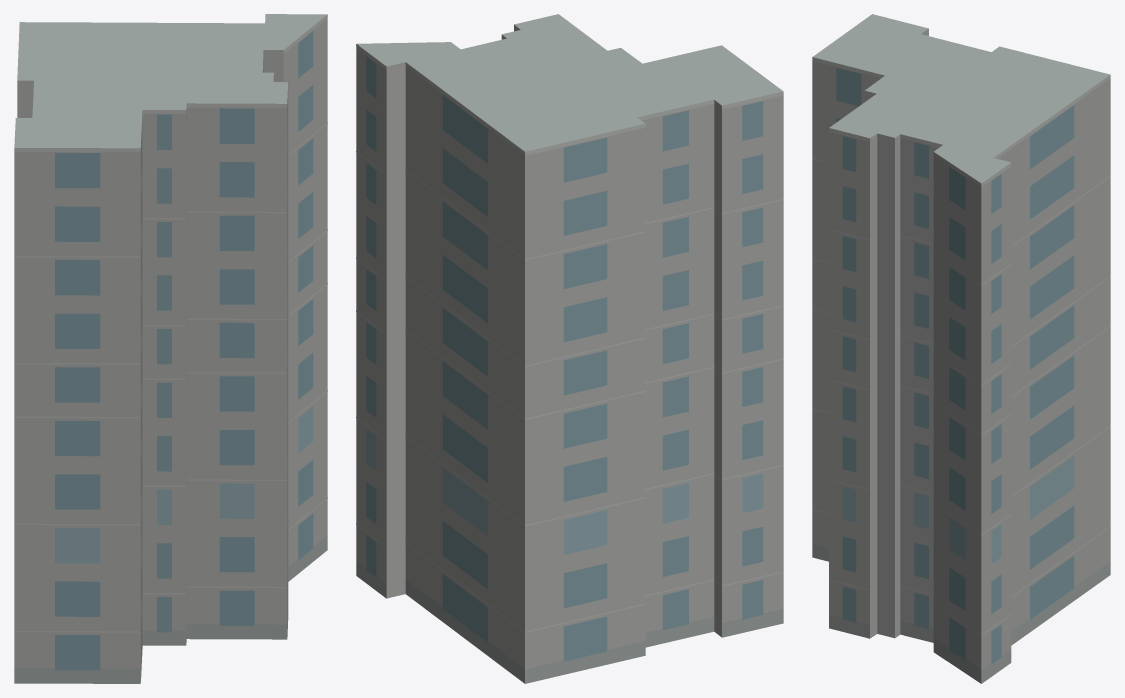
Rendered from survey-upis-32935245.glb.
The picture shows the model from 3 angles, left to right: view 1: azimuth 30°, elevation 25°; view 2: azimuth 150°, elevation 25°; view 3: azimuth 270°, elevation 25°; orthographic projection. The views are drawn at different scales.
Parts seen in each view (by area): view 1: survey-upis-32935245.tmp; view 2: survey-upis-32935245.tmp; view 3: survey-upis-32935245.tmp.
Boxes of the visible parts, box(x1,y1,x2,y2) form: survey-upis-32935245.tmp: box(14, 14, 327, 683); survey-upis-32935245.tmp: box(356, 14, 783, 683); survey-upis-32935245.tmp: box(812, 14, 1110, 683).
Bounding box in the file's own units: 23.23 × 31.95 × 17.28.
